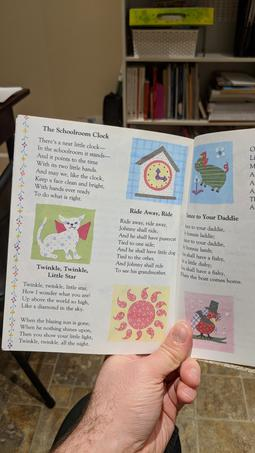text block: (32, 117, 118, 206), (179, 209, 247, 293), (108, 202, 178, 280)
